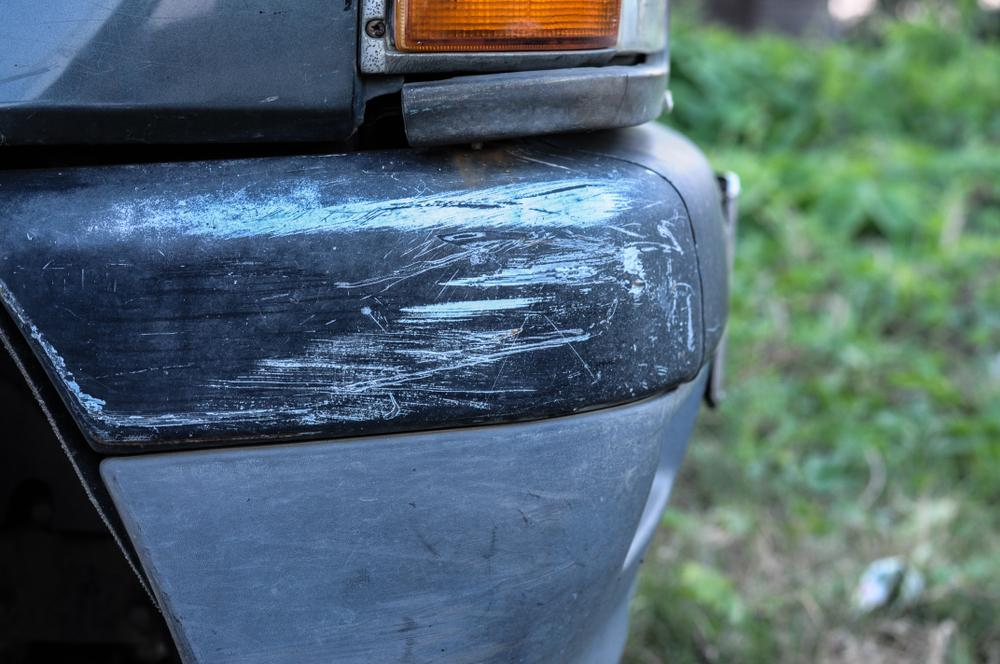scratch: (10, 175, 699, 442)
